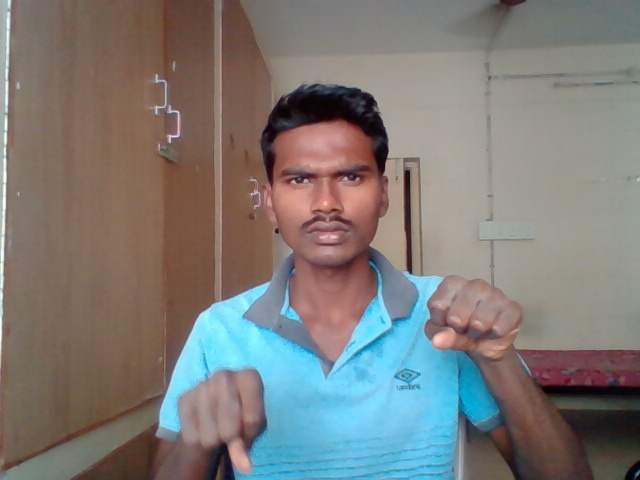Thank You: (425, 270, 526, 365)
